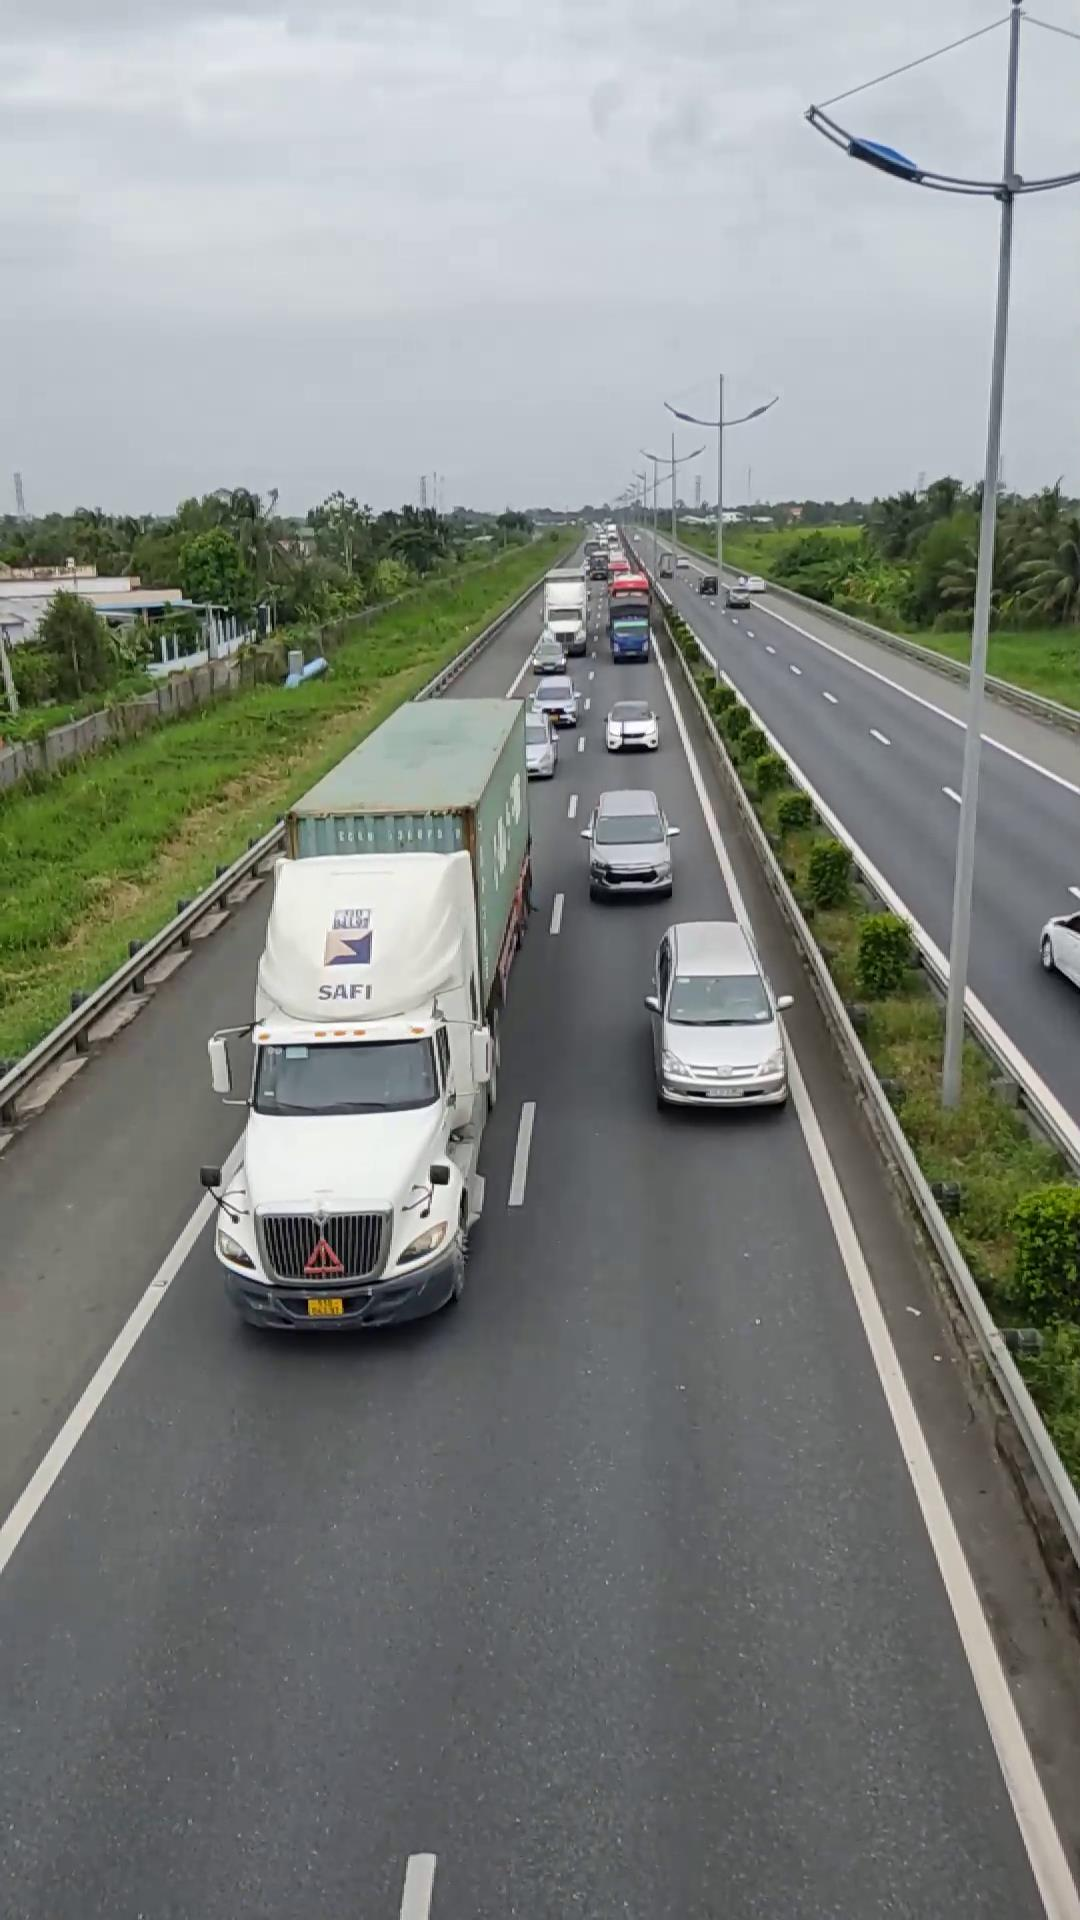car: (644, 916, 790, 1113), (582, 789, 676, 902)
container: (206, 687, 533, 1333)
